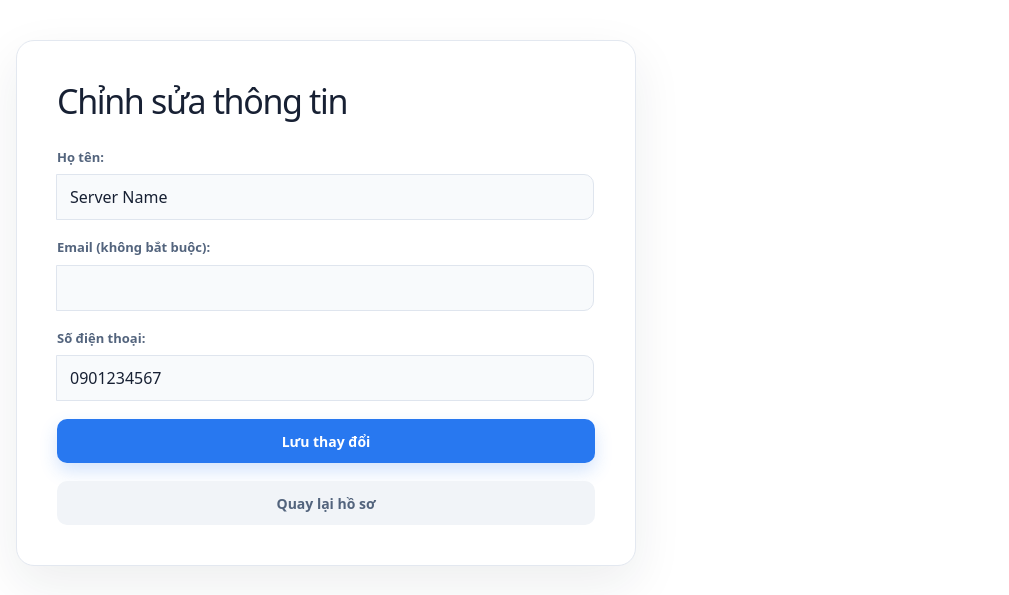
Test: saves customer profile changes to the API and refreshes local account data
Step 1. Replace the text in the field labelled "Họ tên:" with "Nguyễn An" → {"x": 325, "y": 197}, box [56,174,594,220]
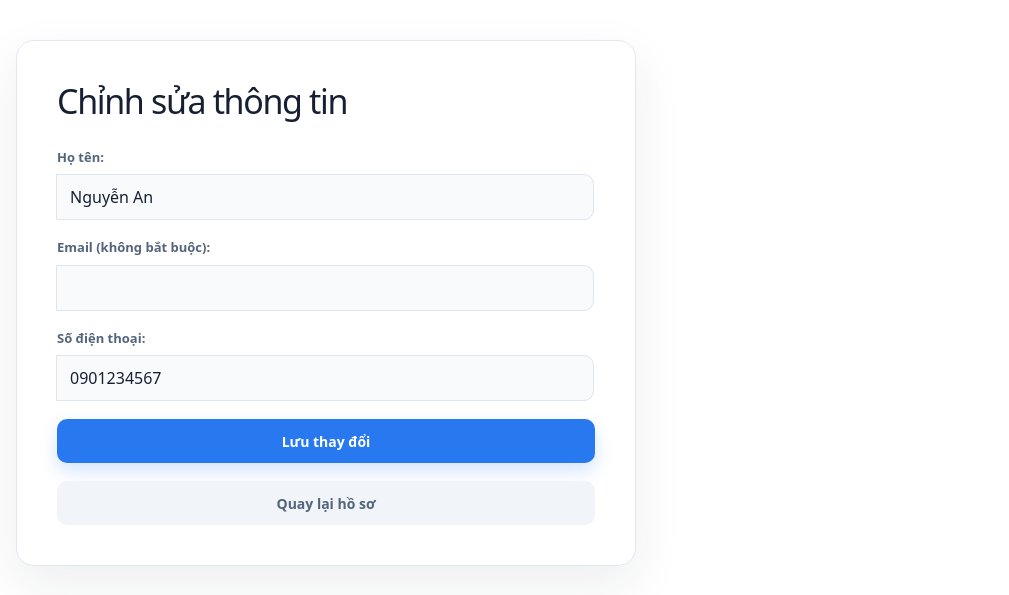
Step 2. Type "an@example.com" into the field labelled "Email (không bắt buộc):" → {"x": 325, "y": 288}, box [56,265,594,311]
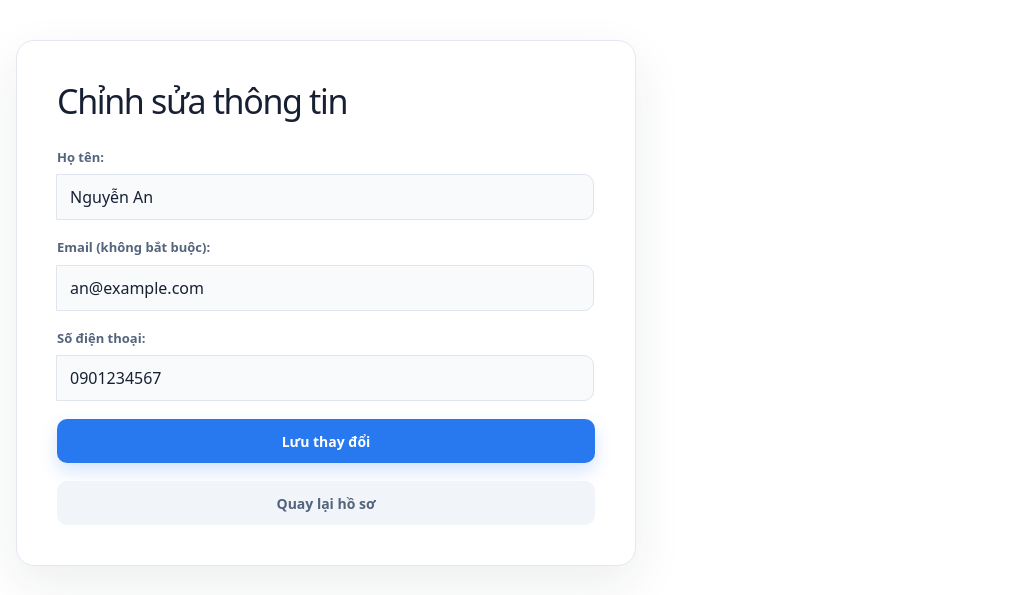
Step 3. Replace the text in the field labelled "Số điện thoại:" with "0912345678" → {"x": 325, "y": 378}, box [56,355,594,401]
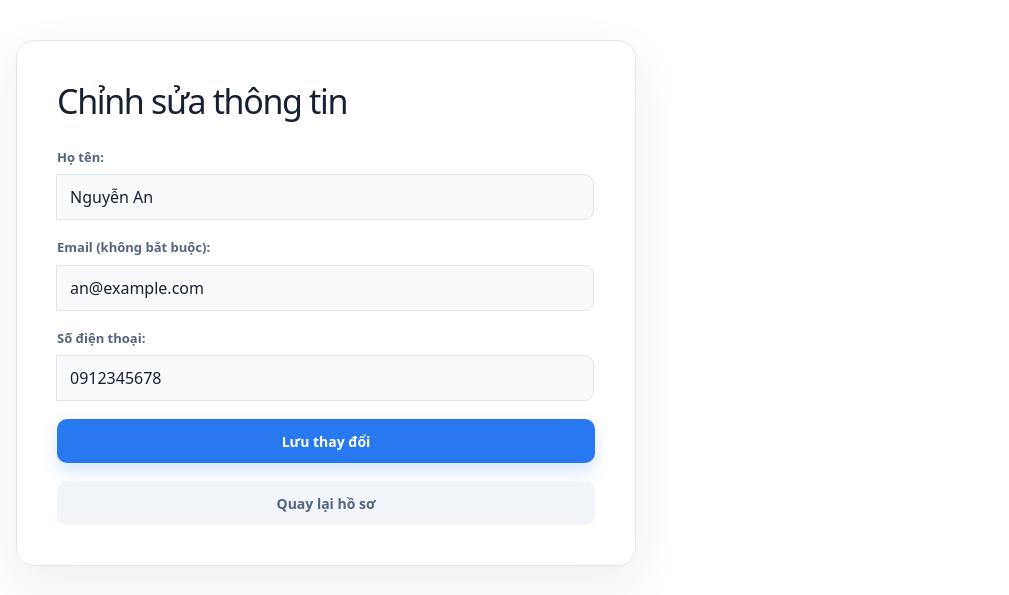
Step 4. Click the button "Lưu thay đổi" → {"x": 326, "y": 441}, box [57,419,595,463]
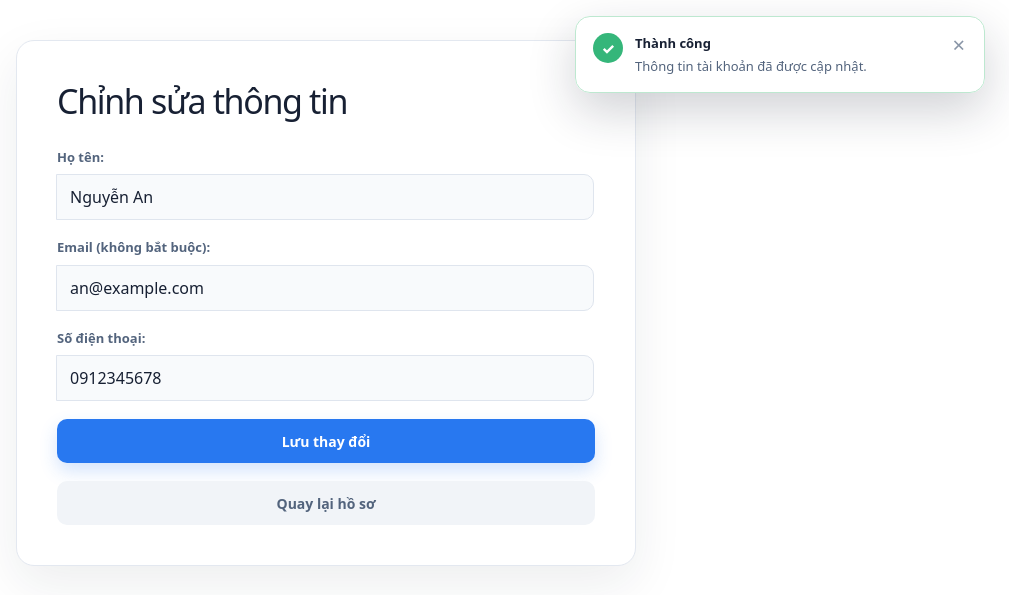
Expected: the text "Thông tin tài khoản đã được cập nhật." is shown, [635,57,867,76]
